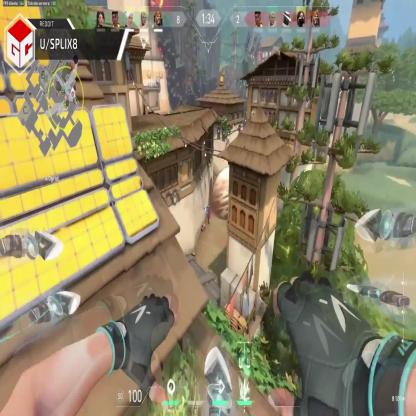enemy: (207, 205, 210, 222)
enemy_head: (208, 206, 210, 211)
